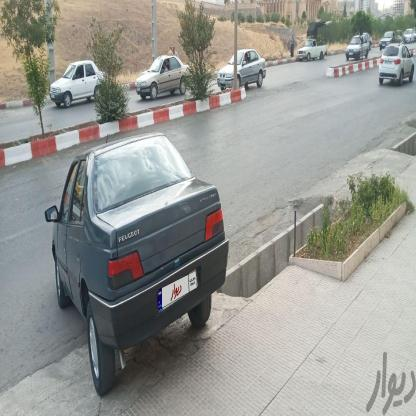Car: (46, 128, 228, 396), (45, 56, 108, 112), (138, 44, 193, 97), (219, 34, 267, 94), (374, 42, 416, 88), (297, 37, 325, 65), (348, 34, 368, 60), (376, 32, 398, 53), (400, 22, 416, 43)
